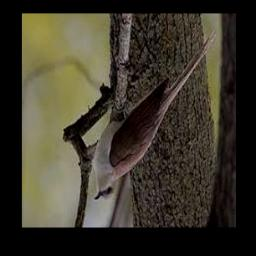Cuckoo: (95, 29, 217, 202)
